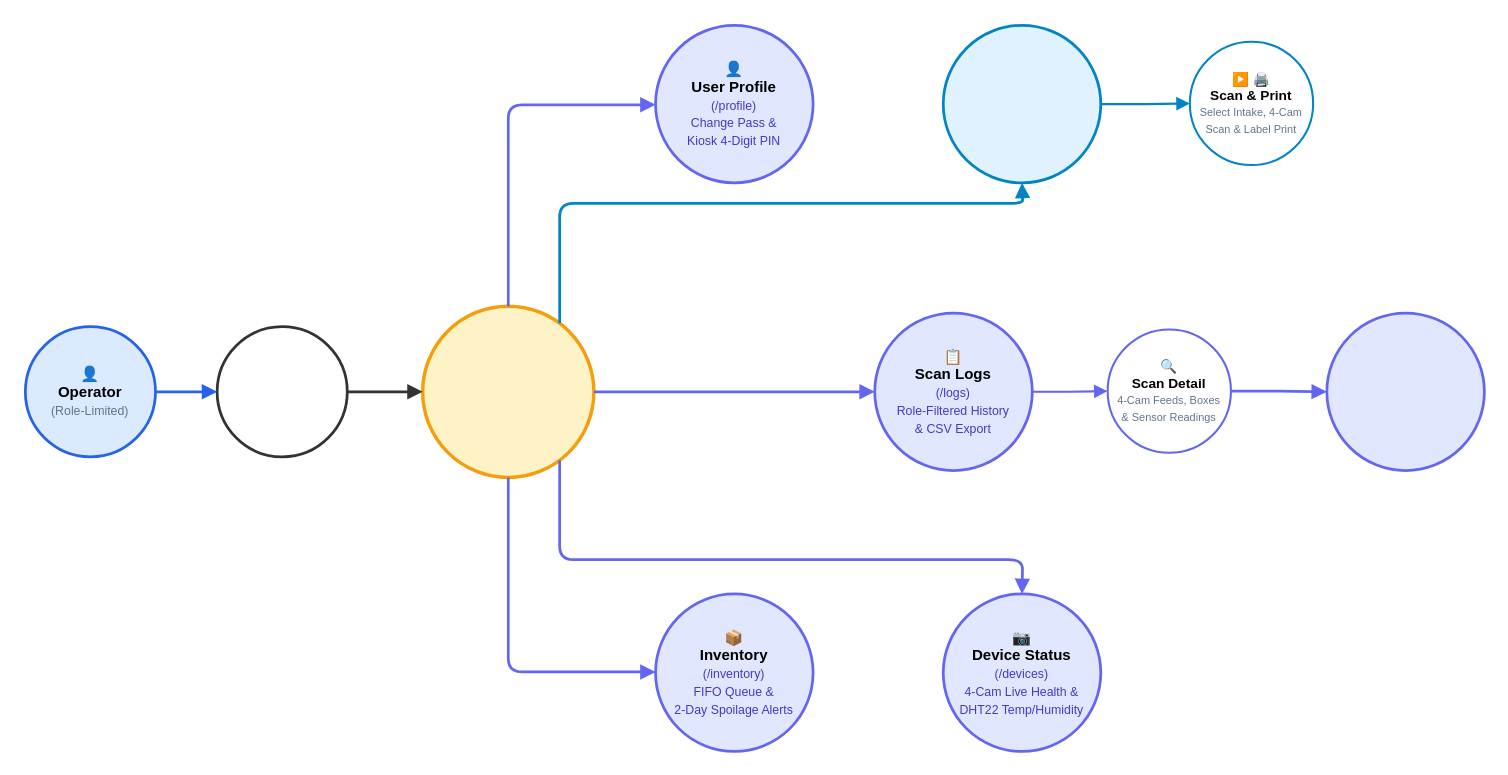
The diagram is 1508 pixels wide and 775 high, and some of its shapes have lost their labels. The box of each missing label's shape, as (x1, y1, x2, y2) in pixels:
🏠 Operator Dashboard Shift Metrics, Live Alerts & Recent Scans: (420, 304, 595, 479)
📊 Analytics (/analytics) Quality Distribution, Cultivar & Shift Trends: (1325, 311, 1485, 471)
🔐 Login Username & Password: (215, 325, 348, 458)
🖥️ Kiosk Mode (/kiosk) Dedicated Touch Scanning Terminal: (941, 23, 1101, 184)
